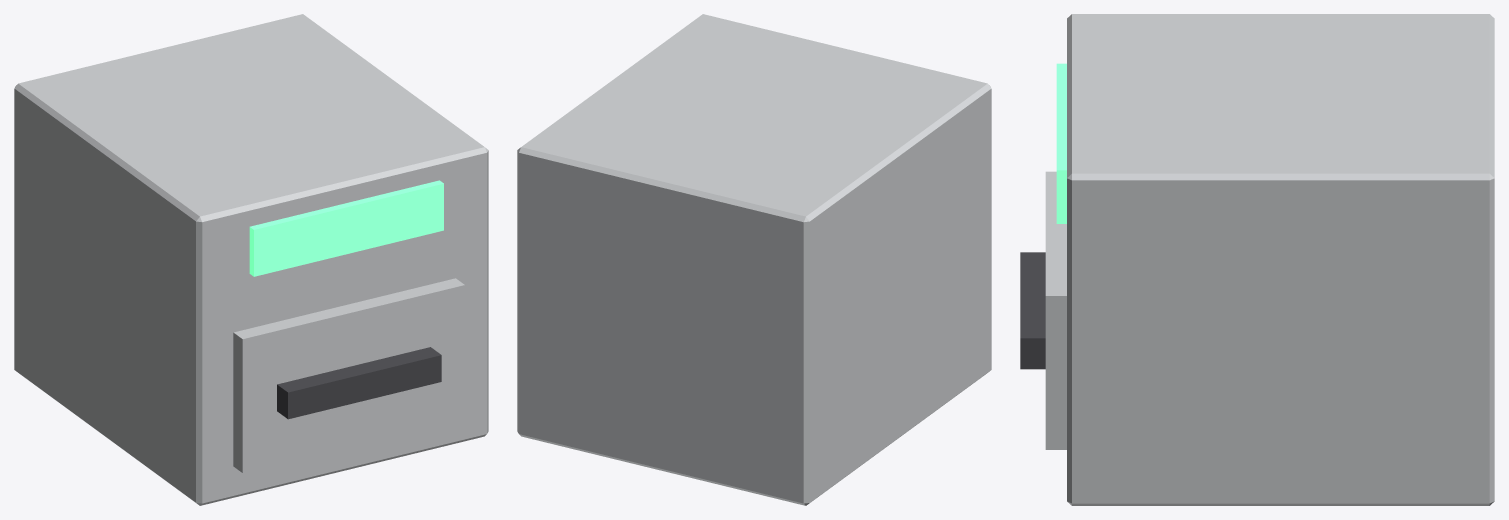
File: NSF-AIRFRYER-COMM.glb
3 views of the same model, side by side, from view 1: azimuth 30°, elevation 25°; view 2: azimuth 150°, elevation 25°; view 3: azimuth 270°, elevation 25° (orthographic). The views are drawn at different scales.
Visible parts, largest first — view 1: asset_nsf_airfryer_comm, asset_nsf_airfryer_comm_basket_drawer; view 2: asset_nsf_airfryer_comm; view 3: asset_nsf_airfryer_comm, asset_nsf_airfryer_comm_basket_drawer.
Part boxes in pixels (bbox=[...]): asset_nsf_airfryer_comm: bbox=[14, 14, 488, 505]; asset_nsf_airfryer_comm_basket_drawer: bbox=[233, 278, 464, 472]; asset_nsf_airfryer_comm: bbox=[517, 14, 991, 505]; asset_nsf_airfryer_comm: bbox=[1056, 14, 1494, 505]; asset_nsf_airfryer_comm_basket_drawer: bbox=[1020, 171, 1066, 449].
Bounding box in the file's own units: 0.457 × 0.432 × 0.559.
